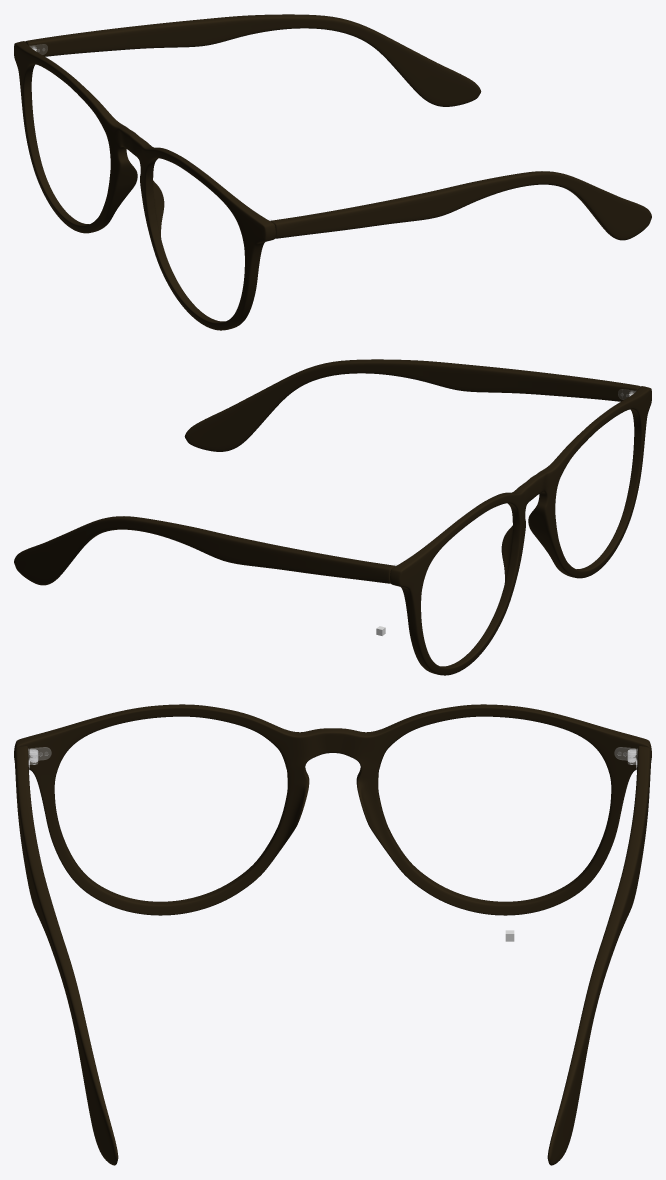
Rendered from testxem.glb.
3 views of the same model, one above another, from view 1: azimuth 30°, elevation 25°; view 2: azimuth 150°, elevation 25°; view 3: azimuth 270°, elevation 25° (orthographic). The views are drawn at different scales.
Parts seen in each view (by area): view 1: Glasses; view 2: Glasses; view 3: Glasses.
Boxes of the visible parts, box(x1,y1,x2,y2) form: Glasses: box(14, 14, 651, 330); Glasses: box(14, 359, 651, 675); Glasses: box(14, 704, 651, 1165).
Bounding box in the file's own units: 149 × 51.3 × 147.
